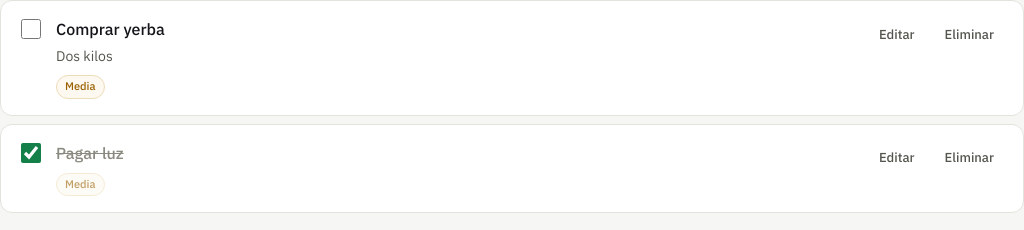
Test: TodoList › permite cancelar la eliminación
Click the button named "eliminar \"comprar yerba\"" at (969, 35), box [932,17,1007,53]
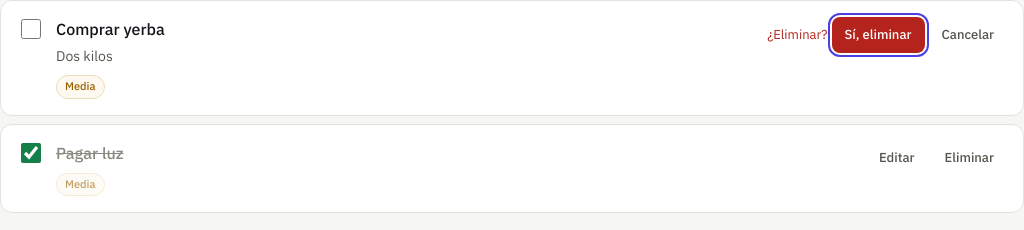
Click the button "Cancelar" at (968, 35), box [928,17,1007,53]
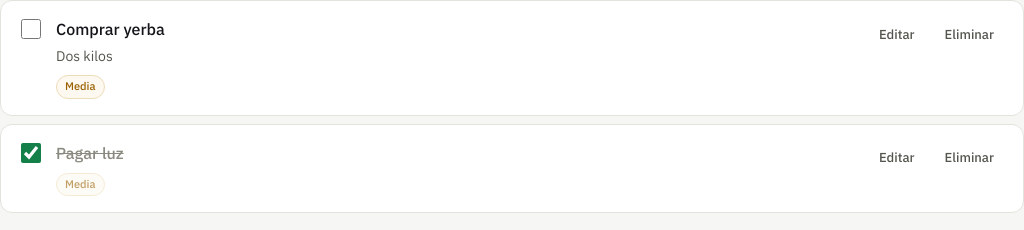
Result: the button named "eliminar \"comprar yerba\"" is shown at [932,17,1007,53]
